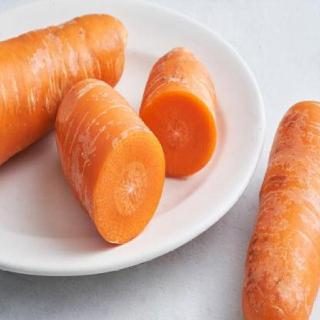carrot: (0, 11, 130, 169), (53, 76, 167, 246), (240, 96, 320, 320), (136, 43, 220, 178)
